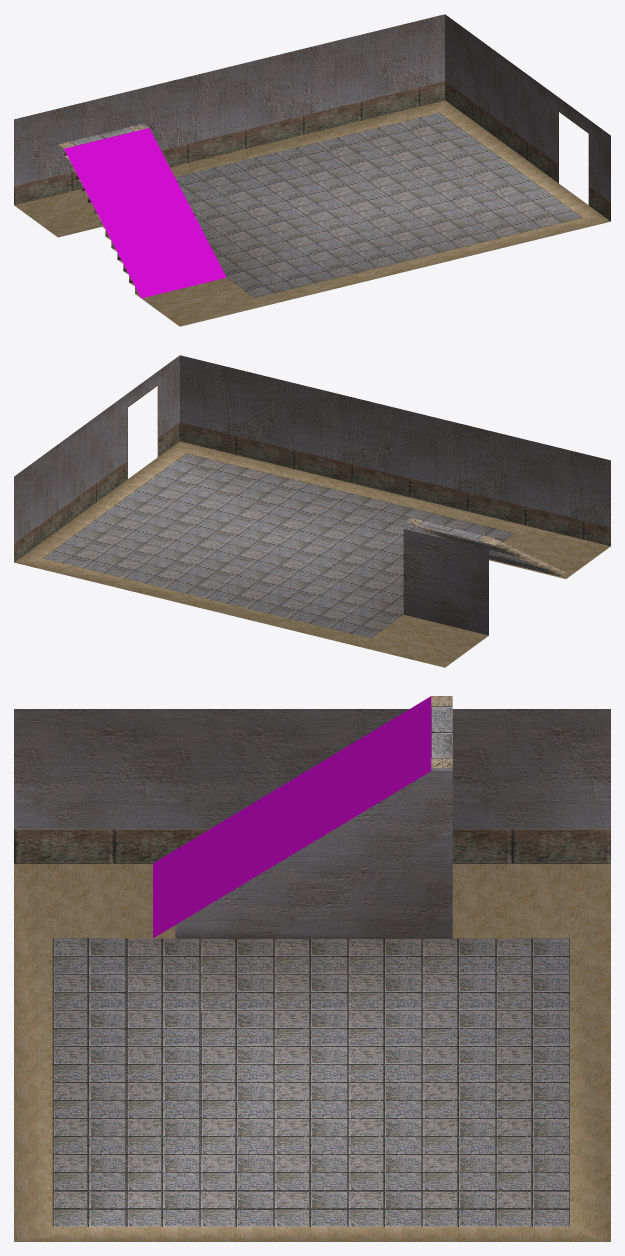
Rendered from M10_Offices_Int_02.glb.
The picture shows the model from 3 angles, top to bottom: view 1: azimuth 30°, elevation 25°; view 2: azimuth 150°, elevation 25°; view 3: azimuth 270°, elevation 25°; orthographic projection. The views are drawn at different scales.
Visible parts, largest first — view 1: M10_OFFICES_INT_02; view 2: M10_OFFICES_INT_02; view 3: M10_OFFICES_INT_02.
Boxes of the visible parts, <box> form: M10_OFFICES_INT_02: <box>14,14,610,326</box>; M10_OFFICES_INT_02: <box>14,355,610,667</box>; M10_OFFICES_INT_02: <box>14,696,610,1241</box>.
Bounding box in the file's own units: 15.75 × 3.25 × 10.5.
7 materials, 6 textured.
